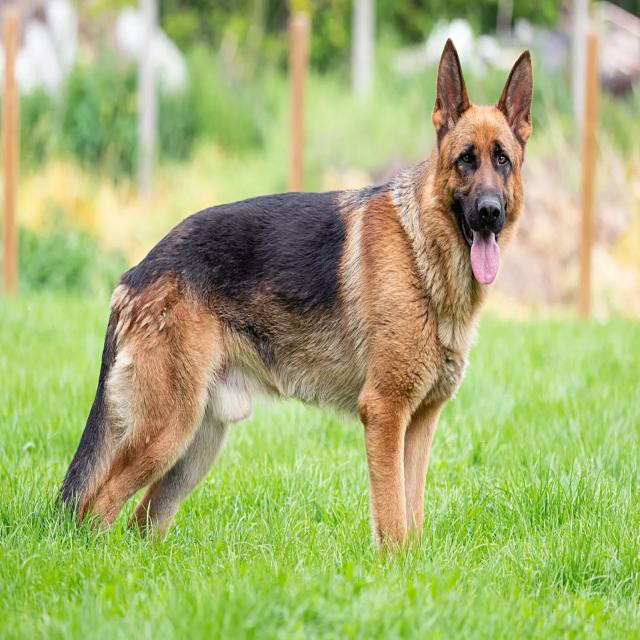dog: (60, 42, 556, 552)
